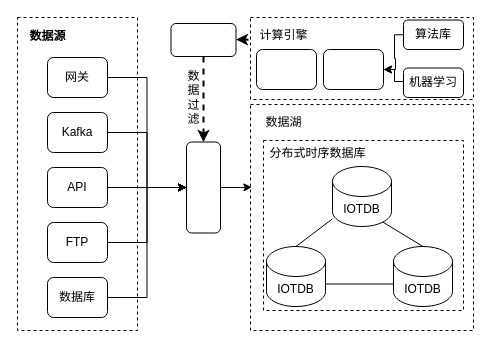
Some shapes in this 491 by 348 pixel diagram are drawn without their labels. The shapes that lost their labels are listed below. From the top down, each one's box as (x1, y1, x2, y2) in pixels, then its label:
(170, 22, 236, 56): PACEP
(256, 48, 316, 90): 模式
(322, 48, 384, 90): 用户自定义函数
(186, 141, 220, 233): 数据集成模块
